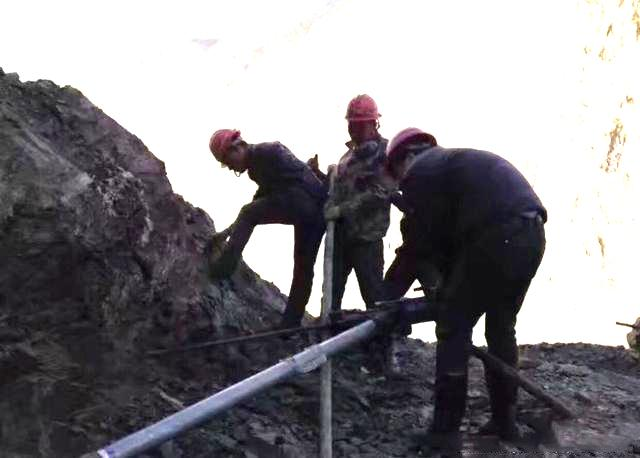helmet: (384, 124, 437, 182), (208, 127, 250, 177), (345, 93, 383, 144)
